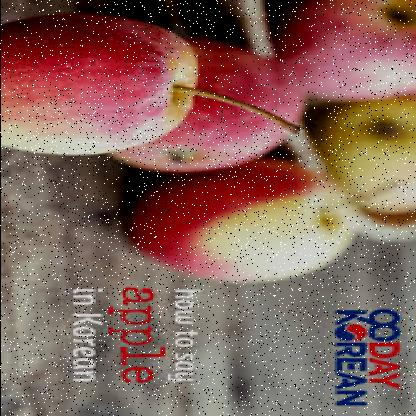apple: (115, 158, 351, 282), (90, 40, 304, 172), (3, 16, 197, 150), (280, 0, 414, 112), (311, 99, 411, 212)
